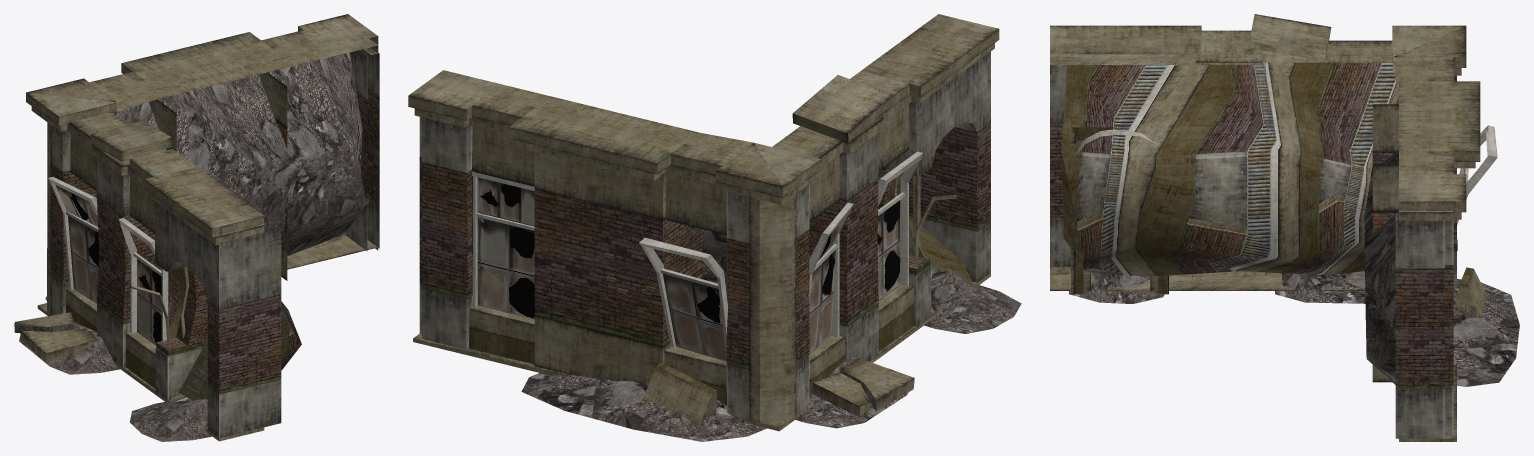
File: Corner_Building_Part_03_Base.fbx
The picture shows the model from 3 angles, left to right: view 1: azimuth 30°, elevation 25°; view 2: azimuth 150°, elevation 25°; view 3: azimuth 270°, elevation 25°; orthographic projection. The views are drawn at different scales.
Parts seen in each view (by area): view 1: Corner_Building_Part_03_Base; view 2: Corner_Building_Part_03_Base; view 3: Corner_Building_Part_03_Base.
Boxes of the visible parts, x1=… form: Corner_Building_Part_03_Base: x1=14, y1=14, x2=379, y2=441; Corner_Building_Part_03_Base: x1=408, y1=14, x2=1021, y2=441; Corner_Building_Part_03_Base: x1=1050, y1=14, x2=1519, y2=441.
Bounding box in the file's own units: 820 × 489 × 808.
